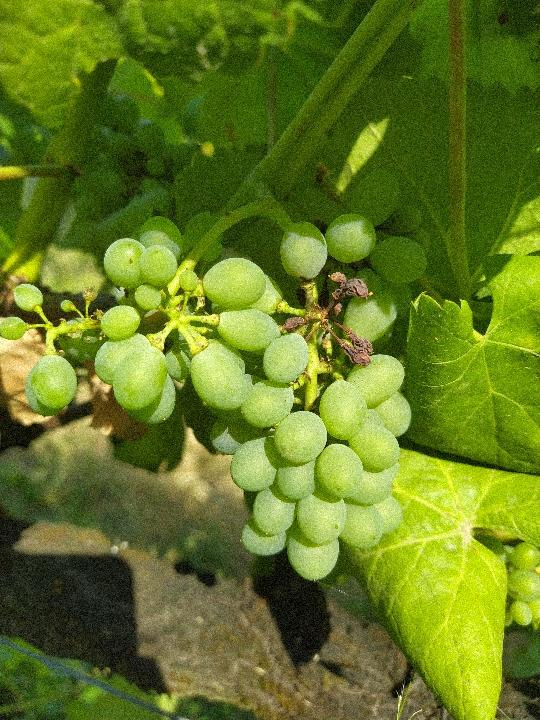grape: (3, 164, 438, 589)
